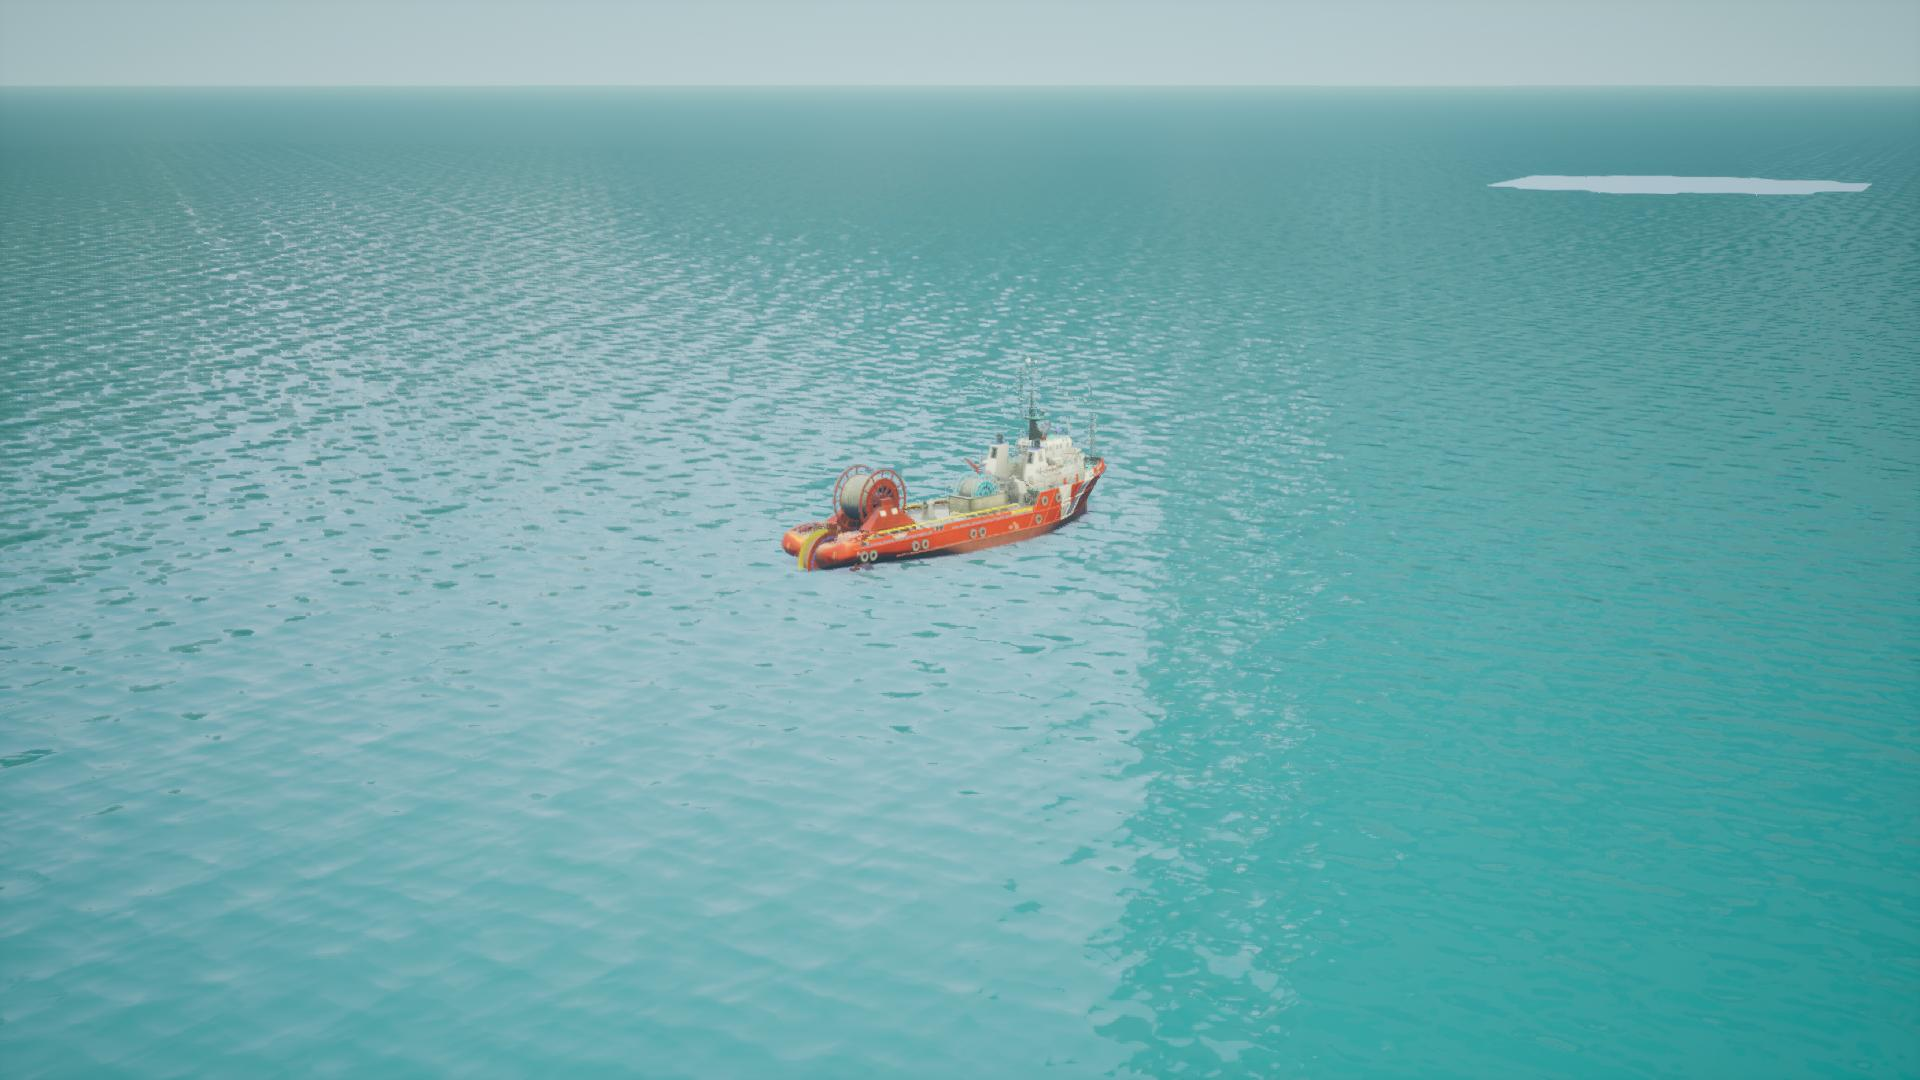Tug Boat: (787, 433, 1105, 570)
